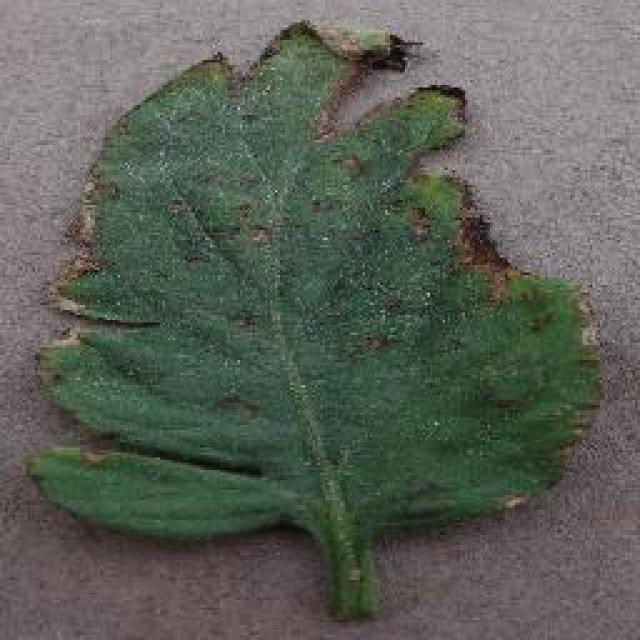Tomato bacterial spot leaf: (19, 12, 619, 574)
